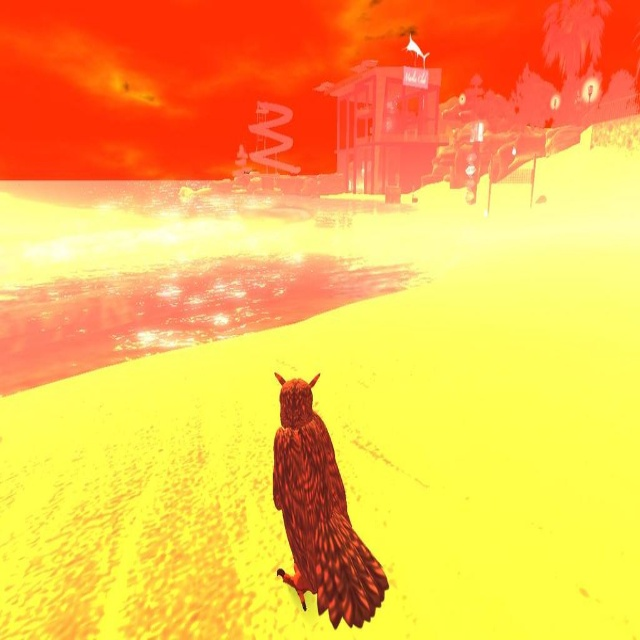Owl: (264, 370, 386, 604)
